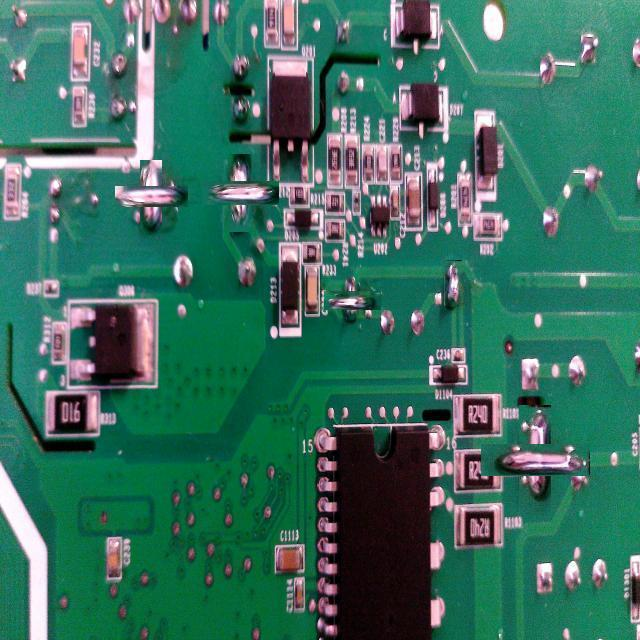Short_circuit: (500, 424, 571, 496), (215, 168, 266, 218), (128, 173, 175, 220), (334, 281, 372, 320), (444, 260, 462, 306)
